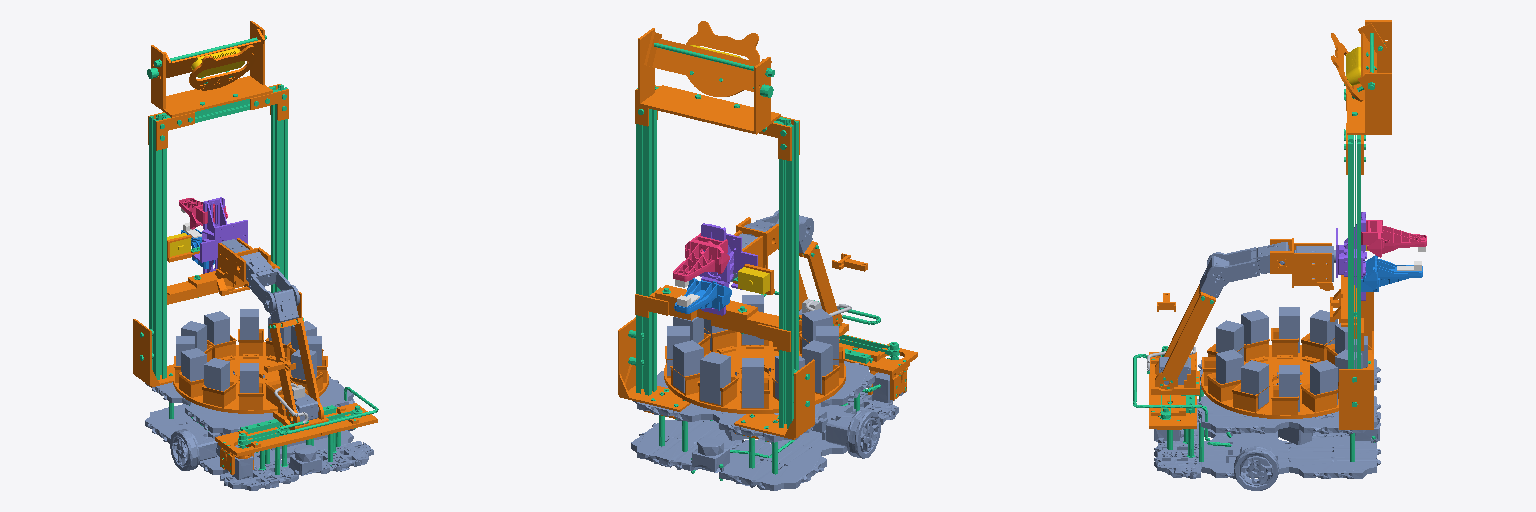
The robot description file, URDF, robot "v75_robot":
<?xml version='1.0' encoding='utf-8'?>
<robot name="v75_robot">
  <!-- 노브(selector)와 앞쪽 받침대는 로봇이 아니라 경기장 물체라서 urdf/knob_station.urdf 로 분리함 -->
  <material name="body_slate">
    <color rgba="0.55 0.63 0.78 1" />
  </material>
  <material name="orange">
    <color rgba="1.0 0.55 0.12 1" />
  </material>
  <material name="mint">
    <color rgba="0.20 0.85 0.62 1" />
  </material>
  <material name="yellow">
    <color rgba="1.0 0.84 0.10 1" />
  </material>
  <material name="light_gray">
    <color rgba="0.82 0.84 0.88 1" />
  </material>
  <material name="gripper_violet">
    <color rgba="0.62 0.45 1.0 1" />
  </material>
  <material name="jaw_pink">
    <color rgba="1.0 0.30 0.55 1" />
  </material>
  <material name="jaw_sky">
    <color rgba="0.20 0.62 1.0 1" />
  </material>
  <material name="knob_red">
    <color rgba="0.95 0.15 0.20 1" />
  </material>
  <material name="pad_white">
    <color rgba="0.97 0.97 0.97 1" />
  </material>
  <!--Visual / kinematic export. q=0 is the saved V75 CAD pose. Not a hardware controller or dynamics model.-->
  <link name="base_link">
    <visual name="base_link_black">
      <origin xyz="0.048 0 0" rpy="0 0 0" />
      <geometry>
        <mesh filename="package://v75_robot_description/meshes/base_link_black.stl" scale="1 1 1" />
      </geometry>
      <material name="body_slate" />
    </visual>
  </link>
  <link name="slide_link">
    <visual name="slide_link_green">
      <origin xyz="0 0 0" rpy="0 0 0" />
      <geometry>
        <mesh filename="package://v75_robot_description/meshes/slide_link_green.stl" scale="1 1 1" />
      </geometry>
      <material name="mint" />
    </visual>
    <!-- added: slide_link_gray.stl was in meshes/ but not referenced -->
  </link>
  <link name="shoulder_link">
    <visual name="shoulder_link_orange">
      <origin xyz="0 0 0" rpy="0 0 0" />
      <geometry>
        <mesh filename="package://v75_robot_description/meshes/shoulder_link_orange.stl" scale="1 1 1" />
      </geometry>
      <material name="orange" />
    </visual>
  </link>
  <link name="elbow_link">
    <visual name="elbow_link_black">
      <origin xyz="0 0 0" rpy="0 0 0" />
      <geometry>
        <mesh filename="package://v75_robot_description/meshes/elbow_link_black.stl" scale="1 1 1" />
      </geometry>
      <material name="body_slate" />
    </visual>
  </link>
  <link name="wrist_pitch_link">
    <visual name="wrist_pitch_link_orange">
      <origin xyz="0 0 0" rpy="0 0 0" />
      <geometry>
        <mesh filename="package://v75_robot_description/meshes/wrist_pitch_link_orange.stl" scale="1 1 1" />
      </geometry>
      <material name="orange" />
    </visual>
  </link>
  <link name="tool_roll_link">
    <visual name="tool_roll_link_black">
      <origin xyz="0 0 0" rpy="0 0 0" />
      <geometry>
        <mesh filename="package://v75_robot_description/meshes/tool_roll_link_black.stl" scale="1 1 1" />
      </geometry>
      <material name="gripper_violet" />
    </visual>
  </link>
  <link name="jaw_upper_link">
    <visual name="jaw_upper_link_black">
      <origin xyz="0 0 0" rpy="0 0 0" />
      <geometry>
        <mesh filename="package://v75_robot_description/meshes/jaw_upper_link_black.stl" scale="1 1 1" />
      </geometry>
      <material name="jaw_pink" />
    </visual>
  </link>
  <link name="carousel_link">
    <visual name="carousel_link_black">
      <origin xyz="0 0 0" rpy="0 0 0" />
      <geometry>
        <mesh filename="package://v75_robot_description/meshes/carousel_link_black.stl" scale="1 1 1" />
      </geometry>
      <material name="body_slate" />
    </visual>
  </link>
  <link name="jaw_lower_link">
    <visual name="jaw_lower_link_black">
      <origin xyz="0 0 0" rpy="0 0 0" />
      <geometry>
        <mesh filename="package://v75_robot_description/meshes/jaw_lower_link_black.stl" scale="1 1 1" />
      </geometry>
      <material name="jaw_sky" />
    </visual>
  </link>
  <link name="idler_link" />
  <!-- added: grasp center between the two jaw pads (measured from jaw meshes at q=0).
       그리퍼 메시를 15° 보정한 뒤 잡는 점이 비틀기 축 위에 옴 -->
  <link name="tool_tcp" />
  <joint name="slide_joint" type="prismatic">
    <parent link="base_link" />
    <child link="slide_link" />
    <!-- Measured: carriage block left edge 36 mm from the waffle's LM-motor edge at the motor end
         stop (motor 808.1 deg); was x 0.02, which drew the carriage 31.4 mm too far from the motor.
         +10 mm after the first puck pick on hardware went 1 cm past the puck (2026-10-24). -->
    <origin xyz="0.04665 0 0" rpy="0 0 0" />
    <!-- + moves the carriage toward the LM motor (-X), matching motor raw +. -->
    <axis xyz="-1 0 0" />
    <!-- 5-degree margin inside measured motor limits (-394.4..504.2 deg, control.yaml, 2026-11-02);
         previous lower=-0.0438 upper=0.0630. -->
    <!-- 2026-11-20: LM re-mount, physical ends -1486.7..-74.4 deg = slide -50.8..+104.1 mm (control.yaml offset, carousel zero) -->
    <limit effort="0" velocity="0" lower="-0.0507" upper="0.1041" />
  </joint>
  <joint name="shoulder_joint" type="revolute">
    <parent link="slide_link" />
    <child link="shoulder_link" />
    <!-- Shoulder axis measured 114 mm above the floor (wheel bottom = base_link z 0) (2026-10-27);
         was 0.12225 (122.25 mm, CAD), which put every TCP 8.25 mm above the real one. -->
    <origin xyz="0.129 0.051 0.114" rpy="0 0 0" />
    <axis xyz="1 -4.17700833006e-17 -1.45864345059e-18" />
    <!-- 5-degree margin inside measured motor limits 44.6-185 deg, offset 67.10 (straight-up pose, 2026-11-06);
         previous lower=-0.3848 upper=1.8910 (offset 71.65), before that -0.3848 / 2.0237. -->
    <limit effort="0" velocity="0" lower="-0.3054" upper="1.9703" />
  </joint>
  <joint name="elbow_joint" type="revolute">
    <parent link="shoulder_link" />
    <child link="elbow_link" />
    <!-- Measured 187 mm axis to axis (2026-10-26), CAD direction kept (scripts/fit_measured.py);
         was 0 0.077280 0.173574 (190 mm), CAD 0 0.0764664888983 0.171746546037 (188.0 mm). -->
    <origin xyz="0 0.076060 0.170833" rpy="0 0 0" />
    <axis xyz="1 -6.34787704949e-17 -3.21286950234e-19" />
    <!-- 5-degree margin inside measured motor limits (new bracket 36.3-309.2 deg, 2026-11-06), offset 132.69
         (straight-up pose, 2026-11-06); previous lower=-1.3366 upper=3.2516 (offset 117.89), before that
         -1.3559 / 3.4506, -1.4379 / 3.4490. -->
    <limit effort="0" velocity="0" lower="-1.5949" upper="2.9933" />
  </joint>
  <joint name="wrist_pitch_joint" type="revolute">
    <parent link="elbow_link" />
    <child link="wrist_pitch_link" />
    <!-- Centered on the forearm wrist-pitch motor horn (was 0.0835666 0.0451843, 24 mm above it).
         Measured 95 mm axis to axis (2026-10-26), direction kept; was 0 0.089498 0.021309 (92 mm). -->
    <origin xyz="0 0.092417 0.022004" rpy="0 0 0" />
    <axis xyz="1 -6.34787704949e-17 -3.21286950234e-19" />
    <!-- 5-degree margin inside measured motor limits -110.7–152.1 deg, offset 30.69 deg (straight-up pose,
         2026-11-06; 25.60 from the stops); previous lower=-2.1205 upper=2.2916, -2.1589 / 2.3300 (-16.7–250.5,
         offset 121.80, 2026-11-02), before that -2.5366 / 1.9523. -->
    <!-- lower end 4 deg inside the measured 152.1 (148.1 raw) for the clock pick over pose (2026-11-06). -->
    <limit effort="0" velocity="0" lower="-2.0491" upper="2.3804" />
  </joint>
  <joint name="tool_roll_joint" type="revolute">
    <parent link="wrist_pitch_link" />
    <child link="tool_roll_link" />
    <!-- Measured 78 mm from the wrist-pitch axis to the tool-roll motor horn (2026-10-26); was 0.055. -->
    <origin xyz="0 0.078 0" rpy="0 0 0" />
    <axis xyz="-2.58569494309e-15 1 7.70863789488e-17" />
    <!-- Motor limits -175–175 deg, aligned at 94 deg (2026-11-02);
         previous lower=-4.6250 upper=1.4835. -->
    <limit effort="0" velocity="0" lower="-4.6949" upper="3.0718" /><!-- upper: motor 270 deg (2026-11-15, was 1.4137 = motor 175) -->
  </joint>
  <joint name="jaw_upper_joint" type="prismatic">
    <parent link="tool_roll_link" />
    <child link="jaw_upper_link" />
    <origin xyz="0 -1.66533453694e-16 -0.01" rpy="0 0 0" />
    <axis xyz="-2.77555756156e-13 5.55111512312e-14 -1" />
    <limit effort="0" velocity="0" lower="-0.021" upper="0.01" />
  </joint>
  <joint name="carousel_joint" type="continuous">
    <parent link="base_link" />
    <child link="carousel_link" />
    <!-- Carousel axis measured 173 mm behind the shoulder axis (y 0.051), top view (2026-11-03); was 0.23 (179 mm). -->
    <origin xyz="0.177 0.224 0.1" rpy="0 0 0" />
    <axis xyz="0 0 1" />
    <limit effort="0" velocity="0" />
  </joint>
  <joint name="jaw_lower_joint" type="prismatic">
    <parent link="tool_roll_link" />
    <child link="jaw_lower_link" />
    <origin xyz="0 -1.11022302463e-16 0.01" rpy="0 0 0" />
    <axis xyz="-3.57353036051e-13 5.55111512313e-14 1" />
    <limit effort="0" velocity="0" lower="-0.021" upper="0.01" />
    <!-- One gripper motor drives both jaws symmetrically. -->
    <mimic joint="jaw_upper_joint" multiplier="1" offset="0" />
  </joint>
  <joint name="idler_joint" type="continuous">
    <parent link="base_link" />
    <child link="idler_link" />
    <!-- Follows the LM plate refit to its measured span (scripts/fit_measured.py); was x 0.234. -->
    <origin xyz="0.26964 0.0563662 0.0955" rpy="0 0 0" />
    <axis xyz="0 0 1" />
    <limit effort="0" velocity="0" />
  </joint>
  <joint name="tool_tcp_joint" type="fixed">
    <parent link="tool_roll_link" />
    <child link="tool_tcp" />
    <!-- Measured horn face to fingertip 132 mm, usable grip 54 mm from the tip (2026-11-06). TCP at the middle of
         the usable grip, 27 mm behind the tip. Was 0.118 (tip 133, 30 mm grip), before that 0.115 (36 mm grip). -->
    <origin xyz="0 0.105 0" rpy="0 0 0" />
  </joint>
  <link name="base_link_vis_green">
    <visual name="base_link_green">
      <origin xyz="0 0 0" rpy="0 0 0" />
      <geometry>
        <mesh filename="package://v75_robot_description/meshes/base_link_green.stl" scale="1 1 1" />
      </geometry>
      <material name="mint" />
    </visual>
  </link>
  <link name="base_link_vis_orange">
    <visual name="base_link_orange">
      <origin xyz="0 0 0" rpy="0 0 0" />
      <geometry>
        <mesh filename="package://v75_robot_description/meshes/base_link_orange.stl" scale="1 1 1" />
      </geometry>
      <material name="orange" />
    </visual>
  </link>
  <link name="base_link_vis_yellow">
    <visual name="base_link_yellow">
      <origin xyz="0 0 0" rpy="0 0 0" />
      <geometry>
        <mesh filename="package://v75_robot_description/meshes/base_link_yellow.stl" scale="1 1 1" />
      </geometry>
      <material name="yellow" />
    </visual>
  </link>
  <link name="slide_link_vis_black">
    <visual name="slide_link_black">
      <origin xyz="0 0 0" rpy="0 0 0" />
      <geometry>
        <mesh filename="package://v75_robot_description/meshes/slide_link_black.stl" scale="1 1 1" />
      </geometry>
      <material name="body_slate" />
    </visual>
  </link>
  <link name="slide_link_vis_orange">
    <visual name="slide_link_orange">
      <origin xyz="0 0 0" rpy="0 0 0" />
      <geometry>
        <mesh filename="package://v75_robot_description/meshes/slide_link_orange.stl" scale="1 1 1" />
      </geometry>
      <material name="orange" />
    </visual>
  </link>
  <link name="slide_link_vis_gray">
    <visual name="slide_link_gray">
      <origin xyz="0 0 0" rpy="0 0 0" />
      <geometry>
        <mesh filename="package://v75_robot_description/meshes/slide_link_gray.stl" scale="1 1 1" />
      </geometry>
      <material name="light_gray" />
    </visual>
  </link>
  <link name="shoulder_link_vis_black">
    <visual name="shoulder_link_black">
      <origin xyz="0 0 0" rpy="0 0 0" />
      <geometry>
        <mesh filename="package://v75_robot_description/meshes/shoulder_link_black.stl" scale="1 1 1" />
      </geometry>
      <material name="body_slate" />
    </visual>
  </link>
  <link name="shoulder_link_vis_green">
    <visual name="shoulder_link_green">
      <origin xyz="0 0 0" rpy="0 0 0" />
      <geometry>
        <mesh filename="package://v75_robot_description/meshes/shoulder_link_green.stl" scale="1 1 1" />
      </geometry>
      <material name="mint" />
    </visual>
  </link>
  <link name="wrist_pitch_link_vis_black">
    <visual name="wrist_pitch_link_black">
      <origin xyz="0 0 0" rpy="0 0 0" />
      <geometry>
        <mesh filename="package://v75_robot_description/meshes/wrist_pitch_link_black.stl" scale="1 1 1" />
      </geometry>
      <material name="body_slate" />
    </visual>
  </link>
  <link name="tool_roll_link_vis_yellow">
    <visual name="tool_roll_link_yellow">
      <origin xyz="0 0 0" rpy="0 0 0" />
      <geometry>
        <mesh filename="package://v75_robot_description/meshes/tool_roll_link_yellow.stl" scale="1 1 1" />
      </geometry>
      <material name="yellow" />
    </visual>
  </link>
  <link name="tool_roll_link_vis_orange">
    <visual name="tool_roll_link_orange">
      <origin xyz="0 0 0" rpy="0 0 0" />
      <geometry>
        <mesh filename="package://v75_robot_description/meshes/tool_roll_link_orange.stl" scale="1 1 1" />
      </geometry>
      <material name="orange" />
    </visual>
  </link>
  <link name="tool_roll_link_vis_green">
    <visual name="tool_roll_link_green">
      <origin xyz="0 0 0" rpy="0 0 0" />
      <geometry>
        <mesh filename="package://v75_robot_description/meshes/tool_roll_link_green.stl" scale="1 1 1" />
      </geometry>
      <material name="mint" />
    </visual>
  </link>
  <link name="jaw_upper_link_vis_orange">
    <visual name="jaw_upper_link_orange">
      <origin xyz="0 0 0" rpy="0 0 0" />
      <geometry>
        <mesh filename="package://v75_robot_description/meshes/jaw_upper_link_orange.stl" scale="1 1 1" />
      </geometry>
      <material name="pad_white" />
    </visual>
  </link>
  <link name="carousel_link_vis_orange">
    <visual name="carousel_link_orange">
      <origin xyz="0 0 0" rpy="0 0 0" />
      <geometry>
        <mesh filename="package://v75_robot_description/meshes/carousel_link_orange.stl" scale="1 1 1" />
      </geometry>
      <material name="orange" />
    </visual>
  </link>
  <link name="carousel_link_vis_green">
    <visual name="carousel_link_green">
      <origin xyz="0 0 0" rpy="0 0 0" />
      <geometry>
        <mesh filename="package://v75_robot_description/meshes/carousel_link_green.stl" scale="1 1 1" />
      </geometry>
      <material name="mint" />
    </visual>
  </link>
  <link name="jaw_lower_link_vis_orange">
    <visual name="jaw_lower_link_orange">
      <origin xyz="0 0 0" rpy="0 0 0" />
      <geometry>
        <mesh filename="package://v75_robot_description/meshes/jaw_lower_link_orange.stl" scale="1 1 1" />
      </geometry>
      <material name="pad_white" />
    </visual>
  </link>
  <joint name="base_link_vis_green_joint" type="fixed">
    <parent link="base_link" />
    <child link="base_link_vis_green" />
    <origin xyz="0.048 0 0" rpy="0 0 0" />
  </joint>
  <joint name="base_link_vis_orange_joint" type="fixed">
    <parent link="base_link" />
    <child link="base_link_vis_orange" />
    <origin xyz="0.048 0 0" rpy="0 0 0" />
  </joint>
  <joint name="base_link_vis_yellow_joint" type="fixed">
    <parent link="base_link" />
    <child link="base_link_vis_yellow" />
    <origin xyz="0.048 0 0" rpy="0 0 0" />
  </joint>
  <joint name="slide_link_vis_black_joint" type="fixed">
    <parent link="slide_link" />
    <child link="slide_link_vis_black" />
    <origin xyz="0 0 0" rpy="0 0 0" />
  </joint>
  <joint name="slide_link_vis_orange_joint" type="fixed">
    <parent link="slide_link" />
    <child link="slide_link_vis_orange" />
    <origin xyz="0 0 0" rpy="0 0 0" />
  </joint>
  <joint name="slide_link_vis_gray_joint" type="fixed">
    <parent link="slide_link" />
    <child link="slide_link_vis_gray" />
    <origin xyz="0 0 0" rpy="0 0 0" />
  </joint>
  <joint name="shoulder_link_vis_black_joint" type="fixed">
    <parent link="shoulder_link" />
    <child link="shoulder_link_vis_black" />
    <origin xyz="0 0 0" rpy="0 0 0" />
  </joint>
  <joint name="shoulder_link_vis_green_joint" type="fixed">
    <parent link="shoulder_link" />
    <child link="shoulder_link_vis_green" />
    <origin xyz="0 0 0" rpy="0 0 0" />
  </joint>
  <joint name="wrist_pitch_link_vis_black_joint" type="fixed">
    <parent link="wrist_pitch_link" />
    <child link="wrist_pitch_link_vis_black" />
    <origin xyz="0 0 0" rpy="0 0 0" />
  </joint>
  <joint name="tool_roll_link_vis_yellow_joint" type="fixed">
    <parent link="tool_roll_link" />
    <child link="tool_roll_link_vis_yellow" />
    <origin xyz="0 0 0" rpy="0 0 0" />
  </joint>
  <joint name="tool_roll_link_vis_orange_joint" type="fixed">
    <parent link="tool_roll_link" />
    <child link="tool_roll_link_vis_orange" />
    <origin xyz="0 0 0" rpy="0 0 0" />
  </joint>
  <joint name="tool_roll_link_vis_green_joint" type="fixed">
    <parent link="tool_roll_link" />
    <child link="tool_roll_link_vis_green" />
    <origin xyz="0 0 0" rpy="0 0 0" />
  </joint>
  <joint name="jaw_upper_link_vis_orange_joint" type="fixed">
    <parent link="jaw_upper_link" />
    <child link="jaw_upper_link_vis_orange" />
    <origin xyz="0 0 0" rpy="0 0 0" />
  </joint>
  <joint name="carousel_link_vis_orange_joint" type="fixed">
    <parent link="carousel_link" />
    <child link="carousel_link_vis_orange" />
    <origin xyz="0 0 0" rpy="0 0 0" />
  </joint>
  <joint name="carousel_link_vis_green_joint" type="fixed">
    <parent link="carousel_link" />
    <child link="carousel_link_vis_green" />
    <origin xyz="0 0 0" rpy="0 0 0" />
  </joint>
  <joint name="jaw_lower_link_vis_orange_joint" type="fixed">
    <parent link="jaw_lower_link" />
    <child link="jaw_lower_link_vis_orange" />
    <origin xyz="0 0 0" rpy="0 0 0" />
  </joint>
  <!-- 카메라 (그리퍼 옆 노란 상자). 렌즈 중심 = tool_roll_link 기준 (-65, 55.8, 0) mm, 그리퍼와 같은 방향(아래)을 봄.
       광학 프레임 관례: z = 보는 방향(tool +y), x = tool +x -->
  <link name="camera_optical_frame" />
  <joint name="camera_optical_joint" type="fixed">
    <parent link="tool_roll_link" />
    <child link="camera_optical_frame" />
    <origin xyz="-0.065 0.0558 0" rpy="-1.5707963 0 0" />
  </joint>
</robot>

--- Facts derived from the render (not from the file) ---
3 views of the same robot in one strip: view 1: azimuth 30°, elevation 25°; view 2: azimuth 150°, elevation 25°; view 3: azimuth 270°, elevation 25° (orthographic).
Robot: v75_robot — 28 links, 27 joints (4 revolute, 2 continuous, 3 prismatic, 18 fixed); root link base_link; default pose: every joint at zero.
Visible links, largest first — view 1: base_link, base_link_vis_orange, base_link_vis_green, carousel_link_vis_orange, shoulder_link, tool_roll_link, elbow_link, wrist_pitch_link, shoulder_link_vis_black, jaw_upper_link, base_link_vis_yellow; view 2: base_link, base_link_vis_orange, base_link_vis_green, carousel_link_vis_orange, jaw_upper_link, tool_roll_link, shoulder_link, jaw_lower_link, wrist_pitch_link, tool_roll_link_vis_yellow, elbow_link; view 3: base_link, base_link_vis_orange, carousel_link_vis_orange, base_link_vis_green, shoulder_link, wrist_pitch_link, elbow_link, jaw_upper_link, jaw_lower_link, tool_roll_link, slide_link_vis_orange.
Link boxes in pixels (box(x1,y1,x2,y2)): base_link: box(145, 309, 373, 490); base_link_vis_orange: box(133, 21, 377, 474); base_link_vis_green: box(140, 35, 378, 474); carousel_link_vis_orange: box(173, 329, 328, 413); shoulder_link: box(269, 317, 323, 423); tool_roll_link: box(192, 197, 247, 273); elbow_link: box(240, 252, 299, 312); wrist_pitch_link: box(215, 238, 270, 286); shoulder_link_vis_black: box(270, 289, 318, 416); jaw_upper_link: box(179, 198, 227, 229); base_link_vis_yellow: box(191, 48, 244, 77); base_link: box(631, 295, 906, 490); base_link_vis_orange: box(618, 21, 917, 441); base_link_vis_green: box(628, 43, 905, 480); carousel_link_vis_orange: box(664, 320, 845, 413); jaw_upper_link: box(673, 233, 729, 281); tool_roll_link: box(699, 223, 757, 315); shoulder_link: box(778, 241, 842, 327); jaw_lower_link: box(674, 278, 731, 313); wrist_pitch_link: box(734, 217, 778, 268); tool_roll_link_vis_yellow: box(738, 267, 769, 294); elbow_link: box(744, 210, 813, 242); base_link: box(1154, 307, 1380, 490); base_link_vis_orange: box(1149, 20, 1391, 429); carousel_link_vis_orange: box(1201, 328, 1367, 418); base_link_vis_green: box(1133, 33, 1384, 461); shoulder_link: box(1155, 284, 1215, 389); wrist_pitch_link: box(1270, 238, 1333, 290); elbow_link: box(1207, 242, 1289, 287); jaw_upper_link: box(1361, 220, 1426, 257); jaw_lower_link: box(1361, 255, 1422, 291); tool_roll_link: box(1336, 212, 1366, 300); slide_link_vis_orange: box(1151, 356, 1199, 394).
Size in the robot's own frame: 0.3065 by 0.4281 by 0.6491 metres.
25 mesh visuals loaded from 25 distinct referenced files (25 binary STL).
